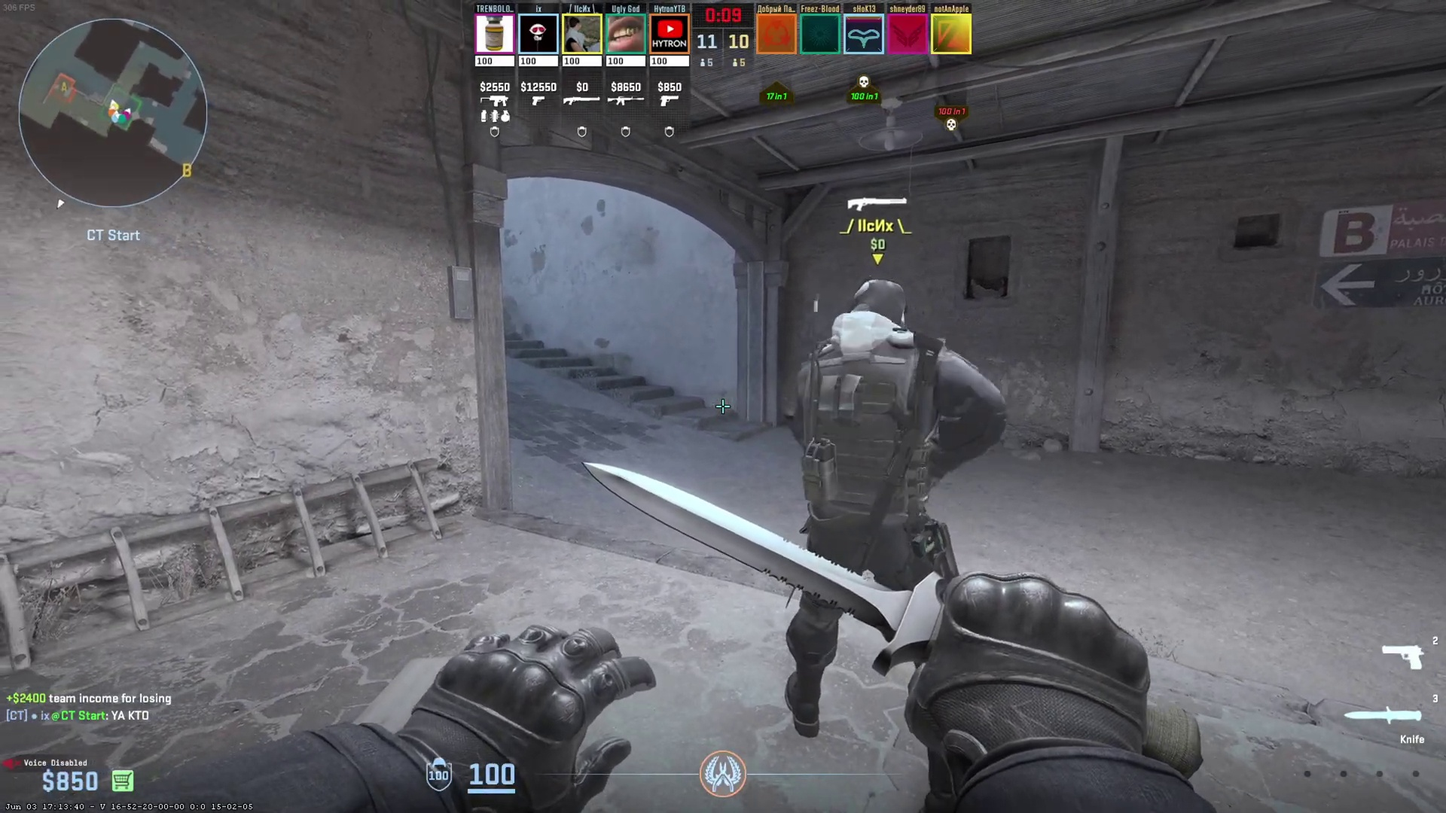CT: (786, 281, 953, 737)
